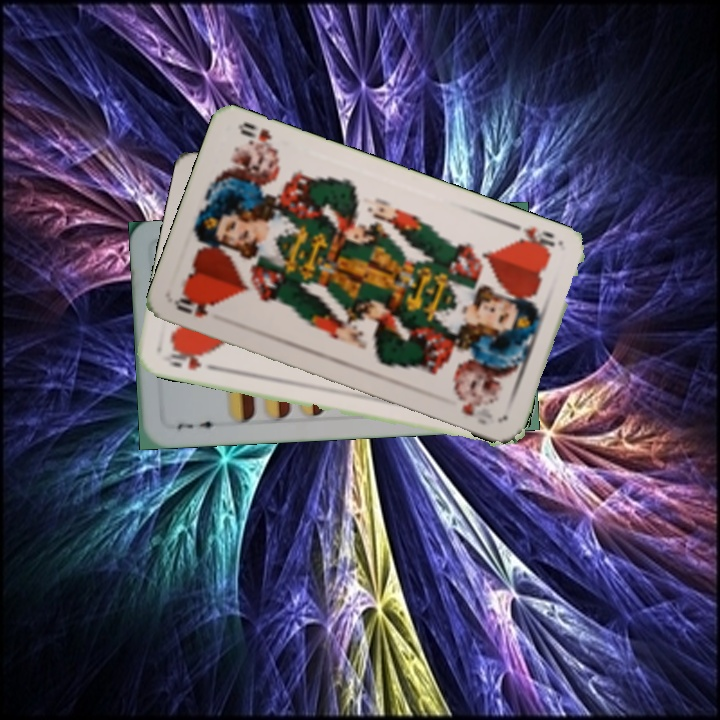E7: (172, 417, 222, 432)
HO: (511, 222, 558, 256), (163, 344, 218, 373), (170, 291, 217, 321)
